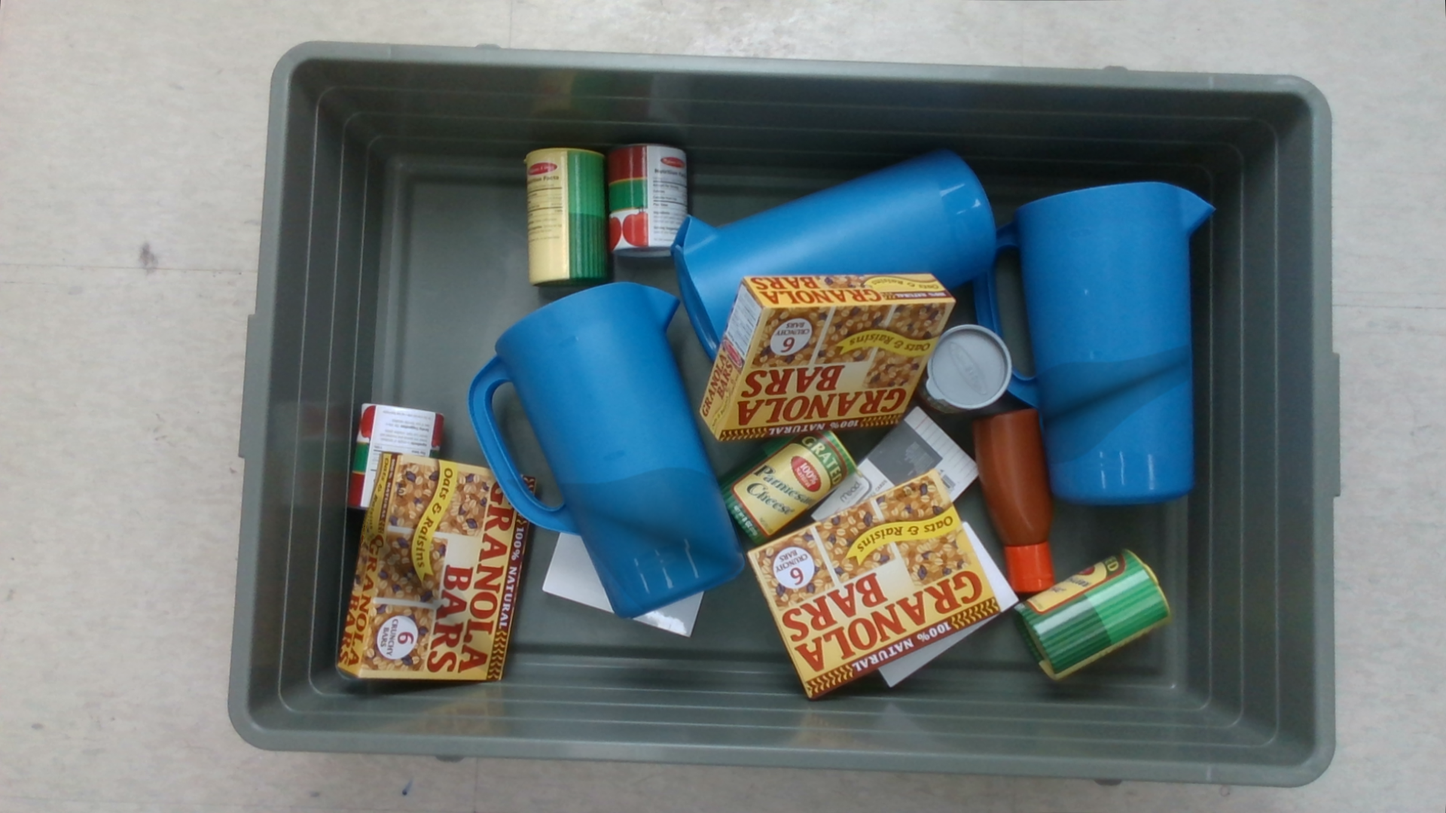defect: (507, 467, 746, 610), (356, 494, 501, 675), (1018, 345, 1191, 464)
